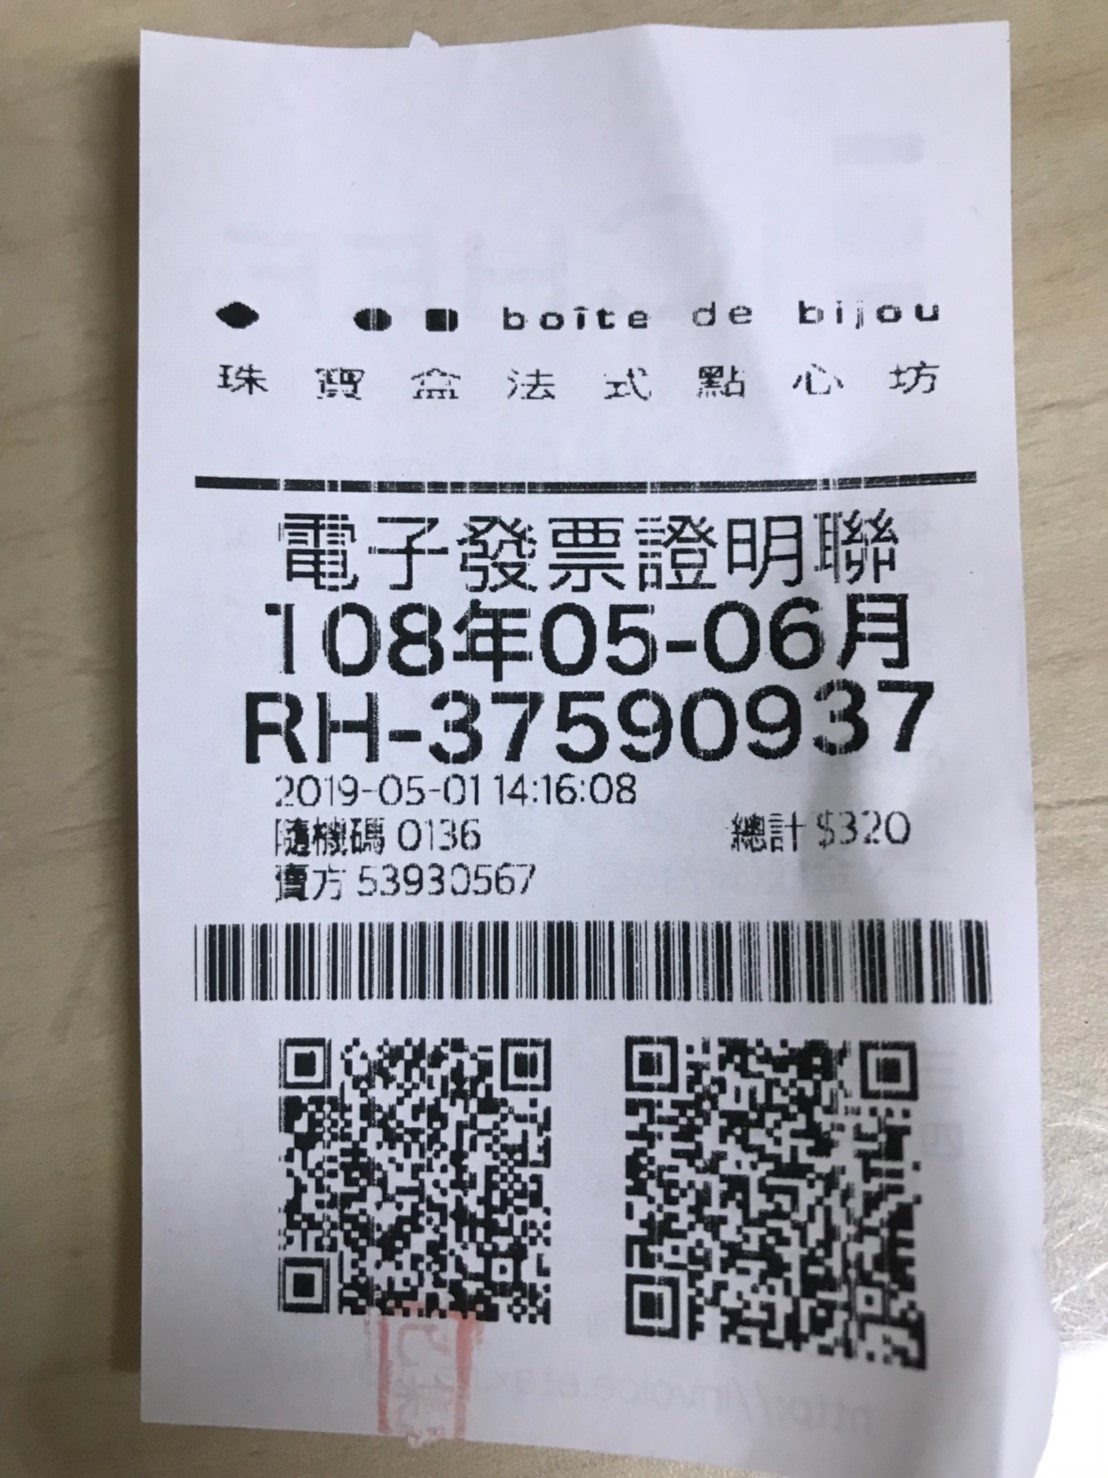Date_New: (265, 591, 911, 673)
Number_New: (428, 678, 939, 770)
